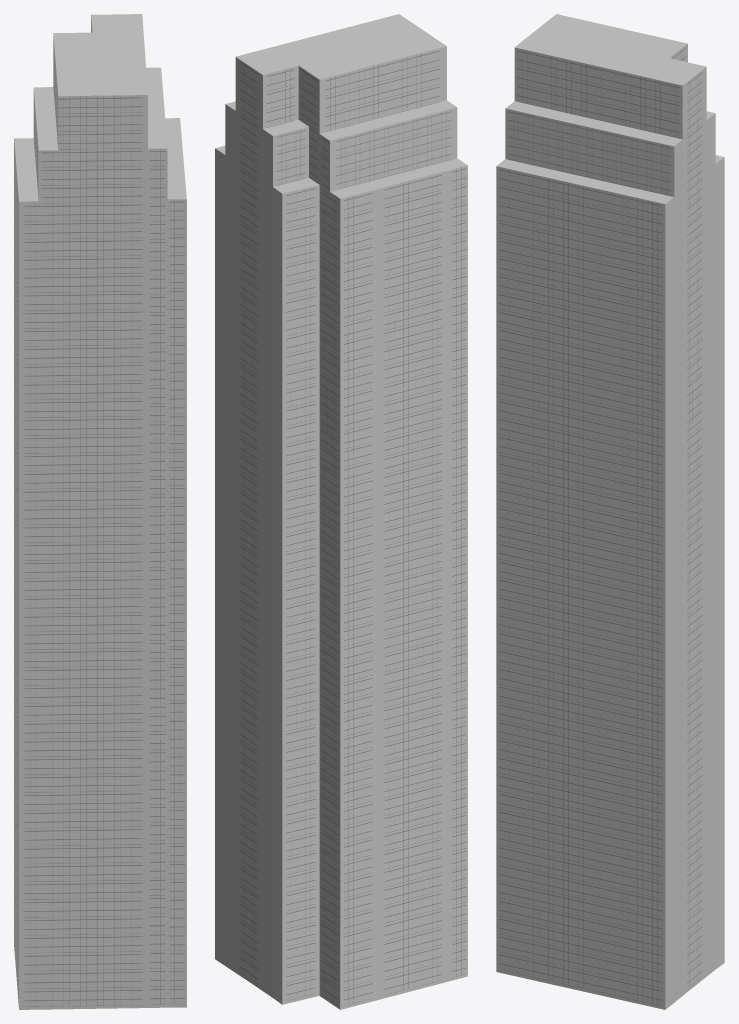
The model's file is building-0-1-85.dae.
3 views of the same model, side by side, from view 1: azimuth 30°, elevation 25°; view 2: azimuth 150°, elevation 25°; view 3: azimuth 270°, elevation 25° (orthographic).
Visible parts, largest first — view 1: geopipeinodeUN9FQNl9 (×3); view 2: geopipeinodeUN9FQNl9 (×3); view 3: geopipeinodeUN9FQNl9 (×3).
Boxes of the visible parts, left/top/right/bottom form: geopipeinodeUN9FQNl9 (×3): left=14, top=14, right=186, bottom=1009; geopipeinodeUN9FQNl9 (×3): left=215, top=14, right=467, bottom=1009; geopipeinodeUN9FQNl9 (×3): left=496, top=14, right=724, bottom=1009.
Bounding box in the file's own units: 42.5 × 40.86 × 180.
